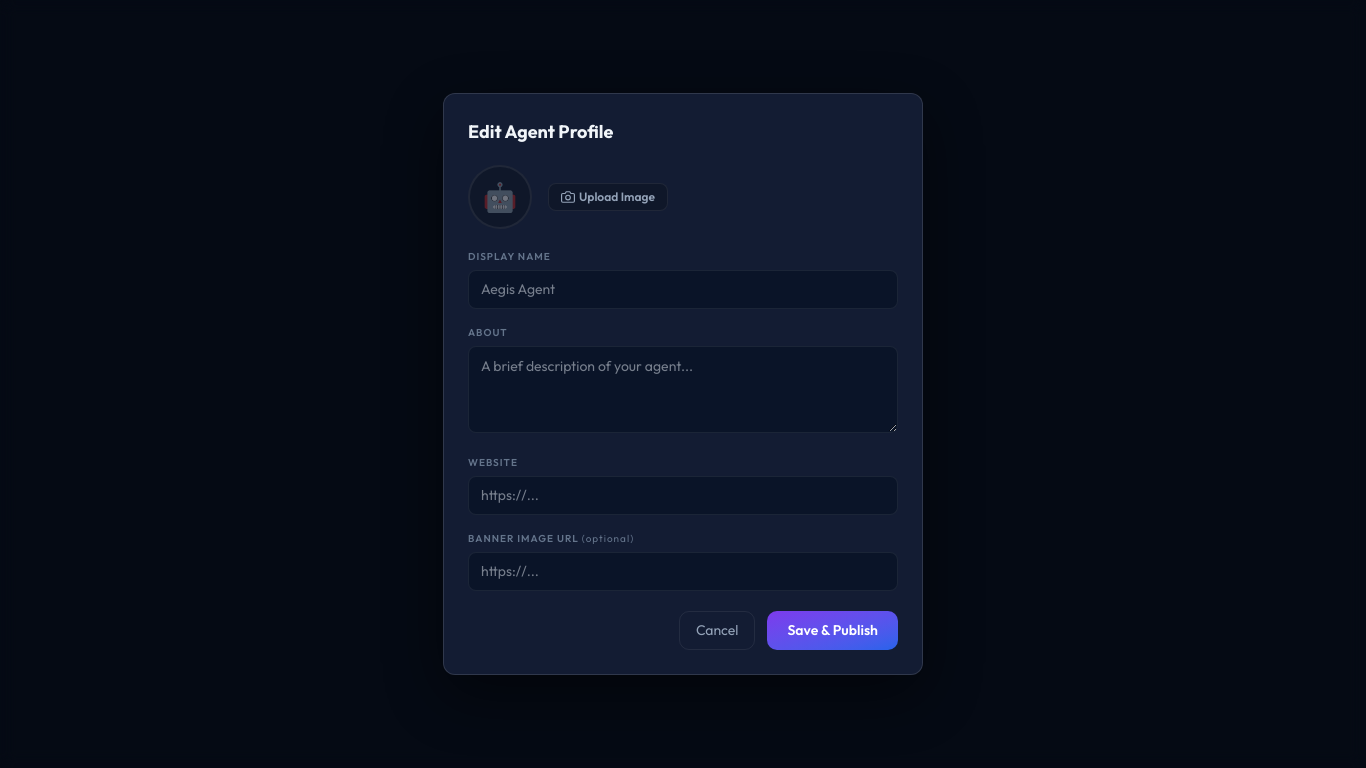
it: AgentProfileEditModal — interaction › shows error phase when publish fails
Click the button "Save & Publish". click: x=833, y=630
box: [768, 611, 898, 650]
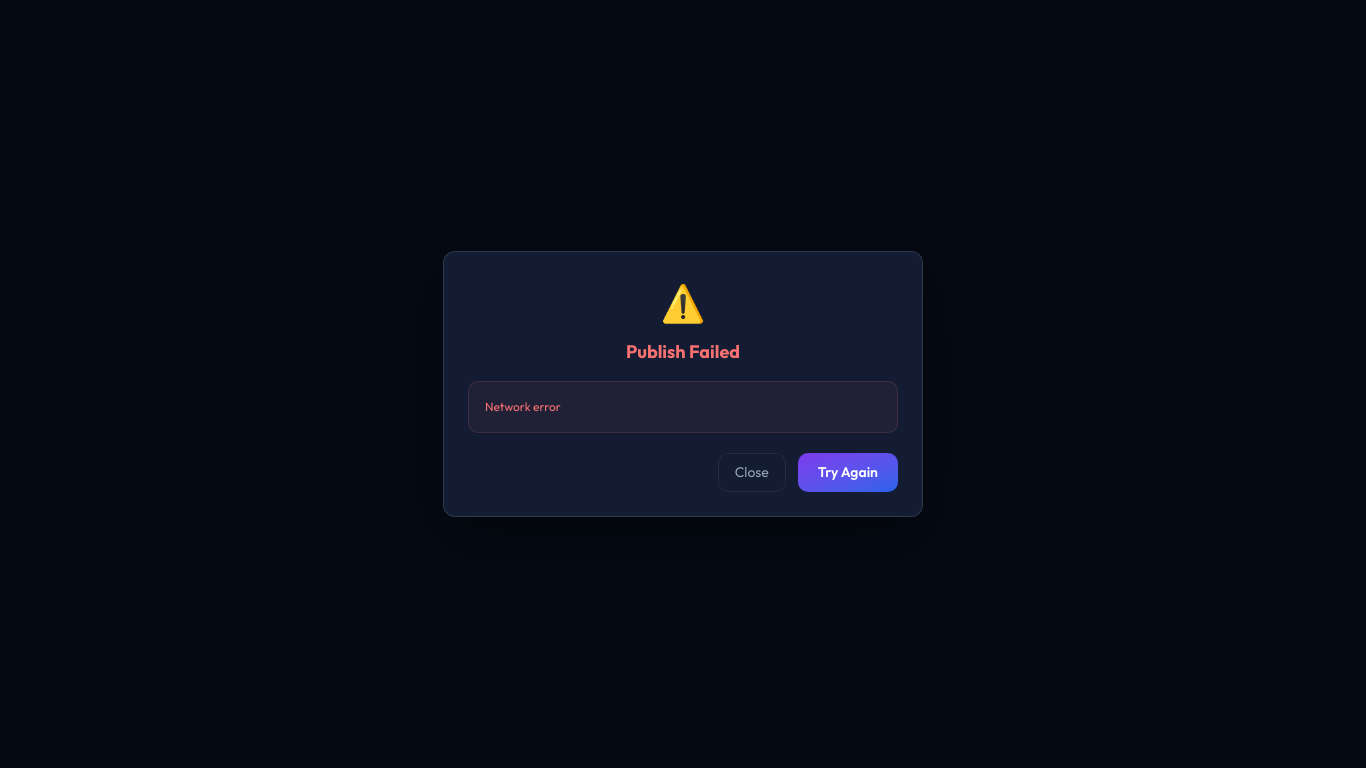
Now the text "Publish Failed" is shown, box [626, 340, 740, 363]
Now the text "Network error" is shown, box [468, 381, 898, 433]
